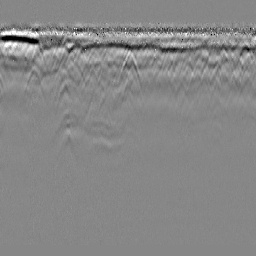cavity: (117, 49, 142, 91)
